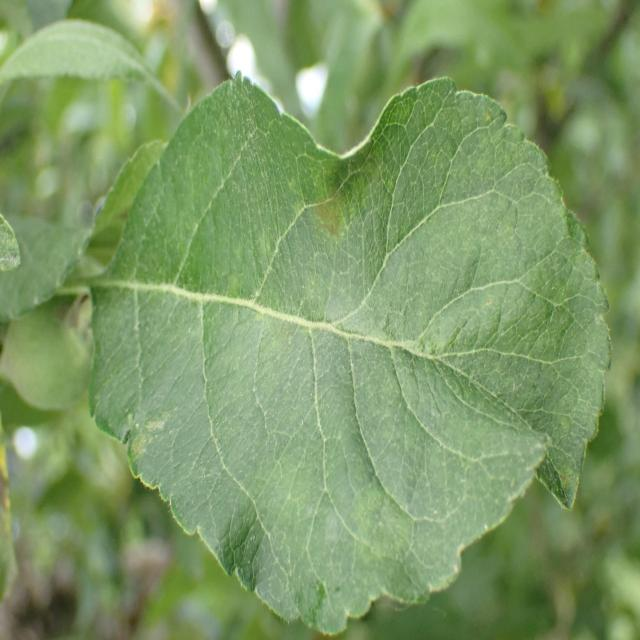scab: (117, 98, 456, 608)
